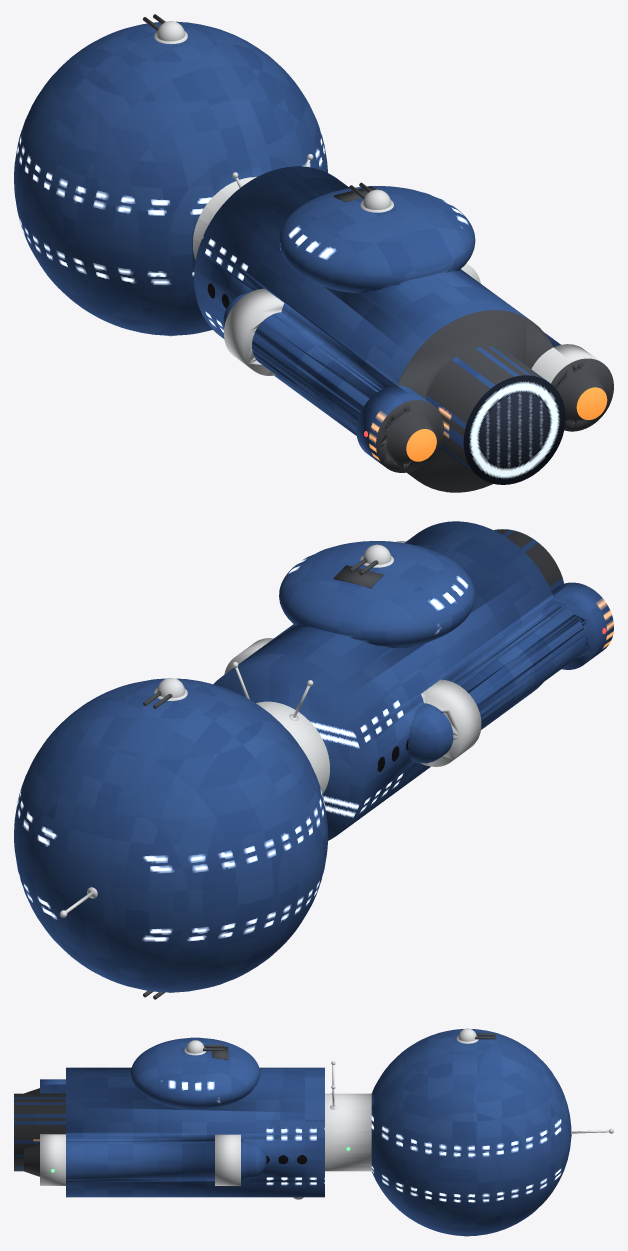
The model's file is earth_light_cruiser.glb.
The picture shows the model from 3 angles, top to bottom: view 1: azimuth 30°, elevation 25°; view 2: azimuth 150°, elevation 25°; view 3: azimuth 270°, elevation 25°; orthographic projection. The views are drawn at different scales.
Visible parts, largest first — view 1: EarthLightCruiser; view 2: EarthLightCruiser; view 3: EarthLightCruiser.
Part boxes in pixels (x1,y1,x2,y2): EarthLightCruiser: [14, 14, 613, 492]; EarthLightCruiser: [14, 521, 613, 999]; EarthLightCruiser: [14, 1028, 613, 1236].
Size of the model in its own units: 15.96 by 17.58 by 46.28.
1 material, 1 textured.
